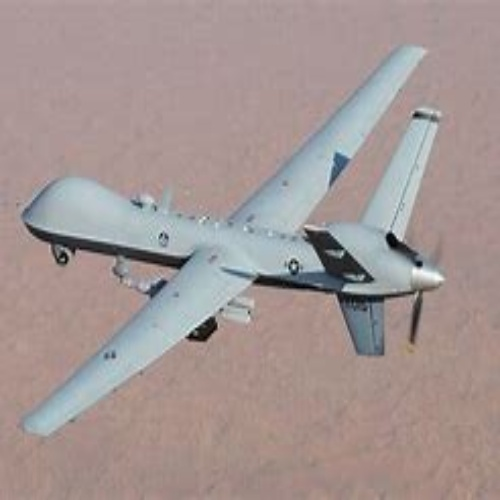uav: (19, 43, 456, 438)
